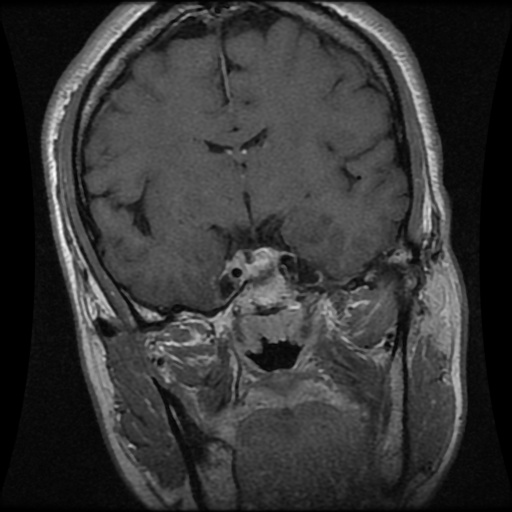pituitary: (226, 243, 284, 283)
